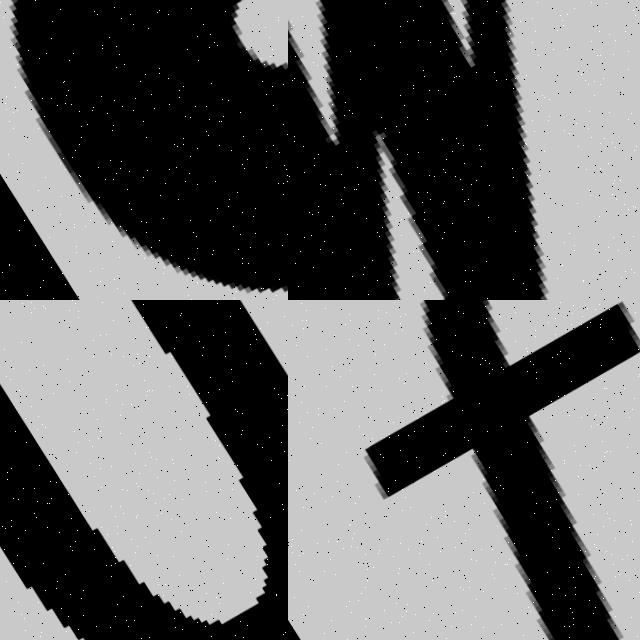0: (0, 300, 288, 640)
A: (0, 0, 288, 300)
F: (288, 300, 640, 640)
W: (288, 0, 640, 300)
